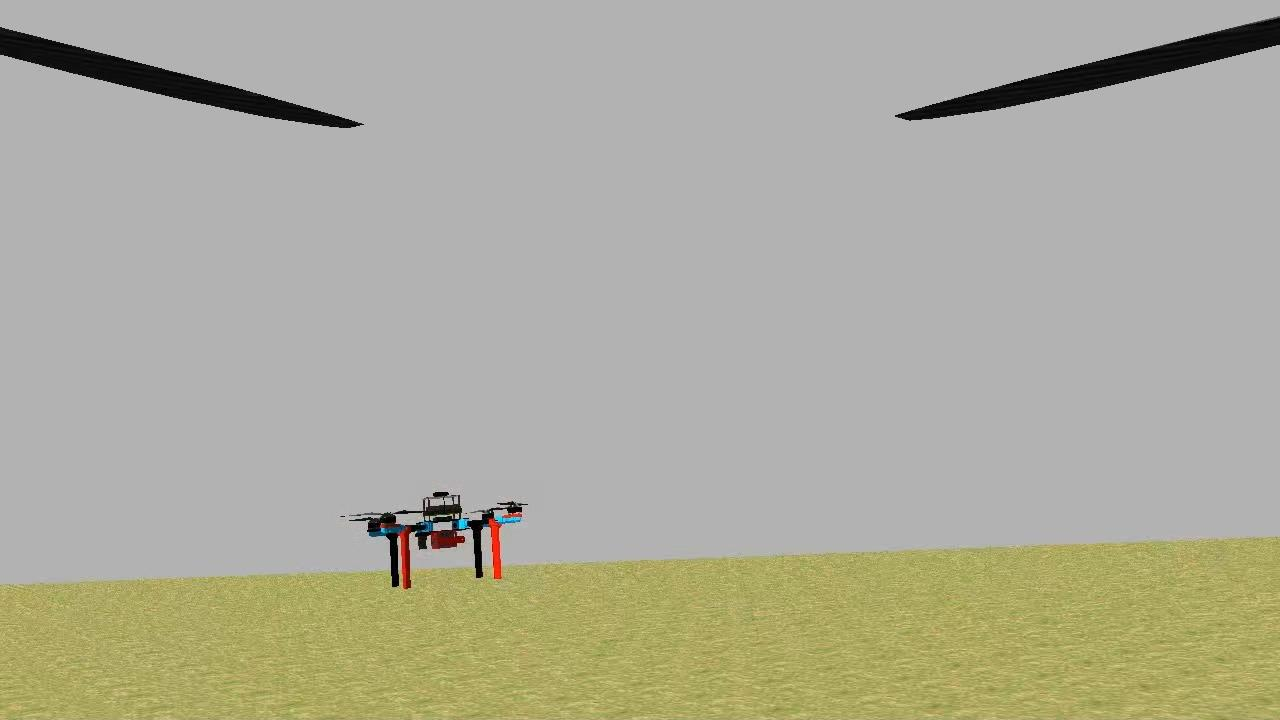UAV: (358, 487, 528, 594)
